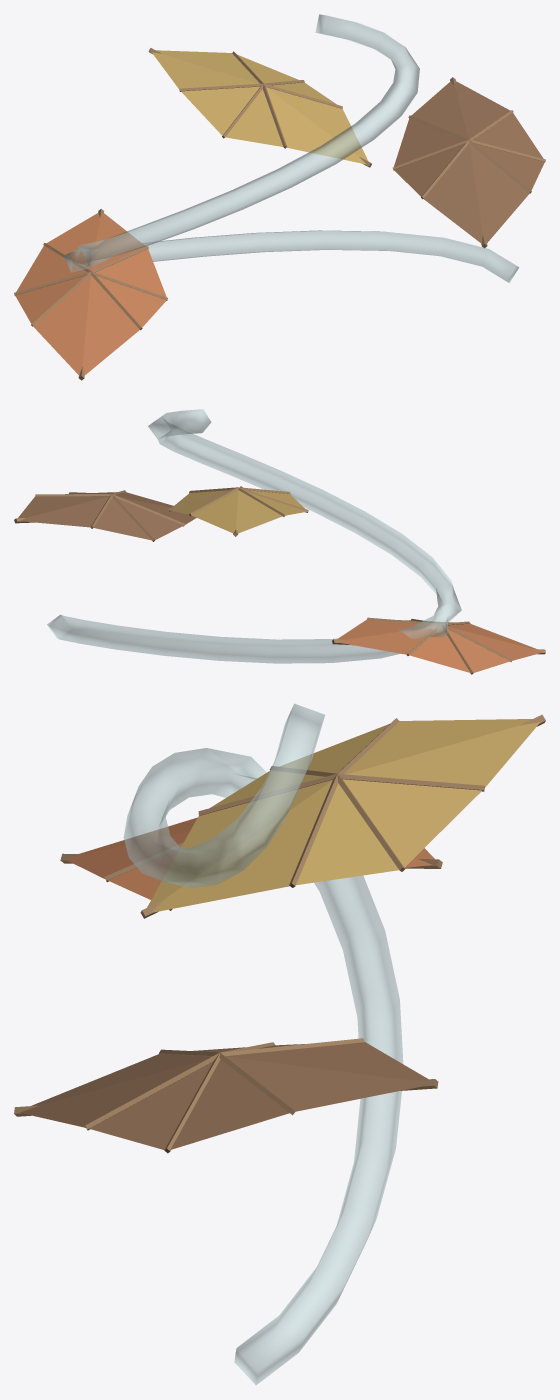
Rendered from draught.glb.
3 renders of one model, top to bottom at view 1: azimuth 30°, elevation 25°; view 2: azimuth 150°, elevation 25°; view 3: azimuth 270°, elevation 25°, orthographic. The views are drawn at different scales.
Parts seen in each view (by area): view 1: Faint spiral of wind, Floating dry leaf.002, Floating dry leaf, Floating dry leaf.001; view 2: Faint spiral of wind, Floating dry leaf, Floating dry leaf.002, Floating dry leaf.001; view 3: Faint spiral of wind, Floating dry leaf.001, Floating dry leaf.002, Floating dry leaf, Leaf vein.009, Leaf vein.011.
Boxes of the visible parts, <box> form: Faint spiral of wind: <box>63,14,518,282</box>; Floating dry leaf.002: <box>394,81,544,243</box>; Floating dry leaf: <box>15,212,166,375</box>; Floating dry leaf.001: <box>151,50,368,164</box>; Faint spiral of wind: <box>47,409,461,663</box>; Floating dry leaf: <box>337,619,542,672</box>; Floating dry leaf.002: <box>18,492,196,540</box>; Floating dry leaf.001: <box>170,490,306,533</box>; Faint spiral of wind: <box>123,703,403,1384</box>; Floating dry leaf.001: <box>147,719,539,913</box>; Floating dry leaf.002: <box>20,1042,428,1149</box>; Floating dry leaf: <box>66,817,434,899</box>; Leaf vein.009: <box>337,774,484,791</box>; Leaf vein.011: <box>289,775,338,887</box>.
Size of the model in its own units: 0.3862 by 0.2214 by 0.2.
